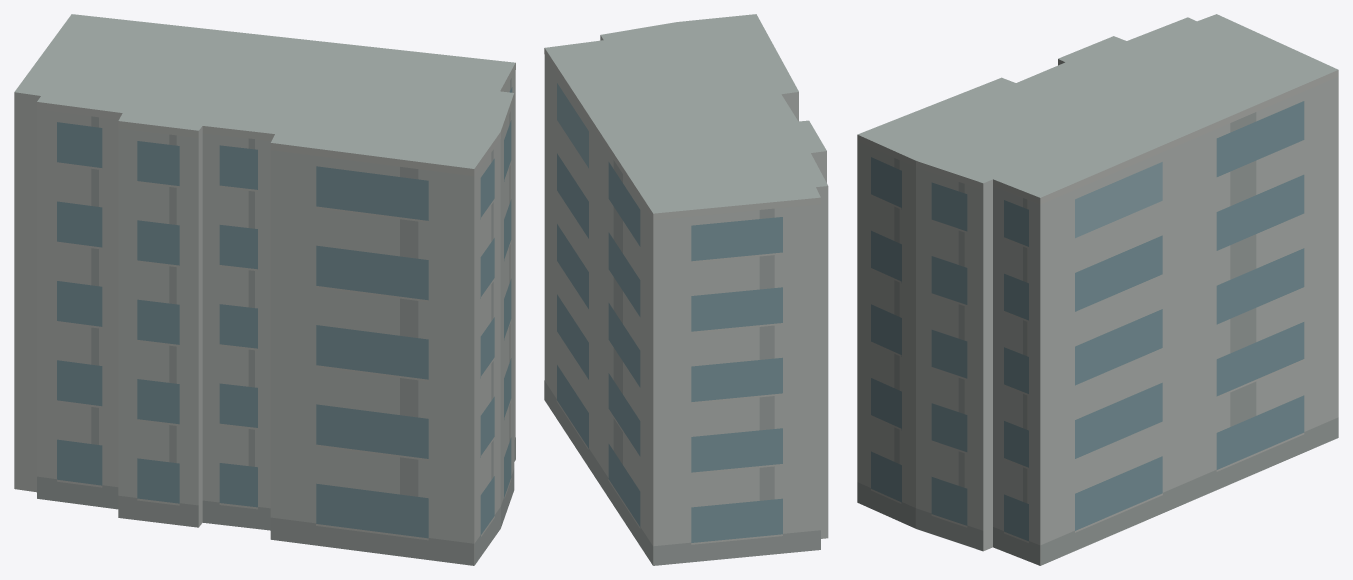
The model's file is survey-upis-32883568.glb.
3 views of the same model, side by side, from view 1: azimuth 30°, elevation 25°; view 2: azimuth 150°, elevation 25°; view 3: azimuth 270°, elevation 25° (orthographic). The views are drawn at different scales.
Visible parts, largest first — view 1: survey-upis-32883568.tmp; view 2: survey-upis-32883568.tmp; view 3: survey-upis-32883568.tmp.
Boxes of the visible parts, x1=… form: survey-upis-32883568.tmp: x1=14, y1=14, x2=515, y2=565; survey-upis-32883568.tmp: x1=544, y1=14, x2=828, y2=565; survey-upis-32883568.tmp: x1=857, y1=14, x2=1338, y2=565.
Size of the model in its own units: 14.15 by 13.2 by 15.65.
